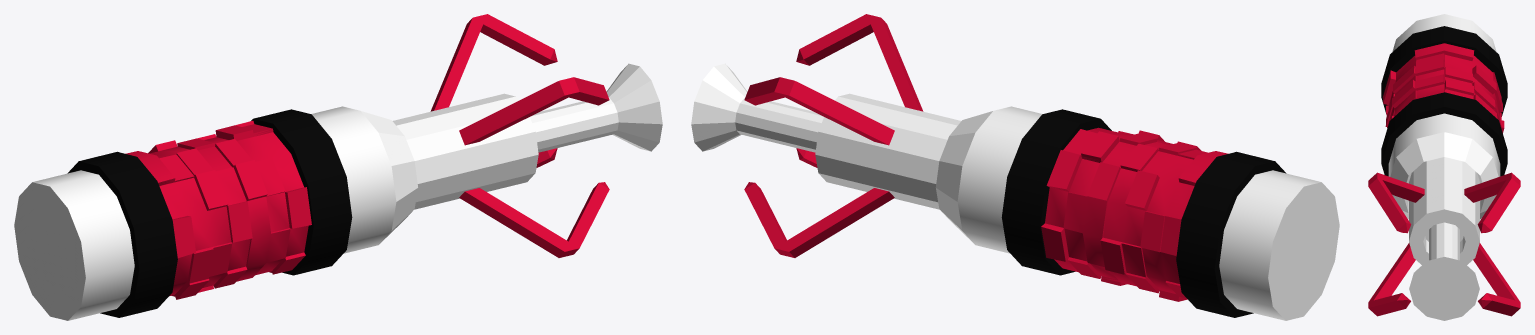
Rendered from cannon.fbx.
3 views of the same model, side by side, from view 1: azimuth 30°, elevation 25°; view 2: azimuth 150°, elevation 25°; view 3: azimuth 270°, elevation 25° (orthographic). The views are drawn at different scales.
Parts seen in each view (by area): view 1: Cylinder001; view 2: Cylinder001; view 3: Cylinder001.
Part boxes in pixels (left/top/right/bottom): Cylinder001: left=14, top=14, right=662, bottom=320; Cylinder001: left=691, top=14, right=1339, bottom=320; Cylinder001: left=1368, top=14, right=1520, bottom=320.
Bounding box in the file's own units: 95 × 27.31 × 27.31.
